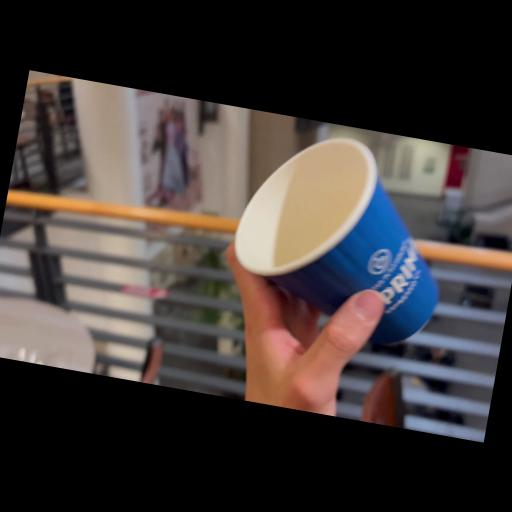lp_paper_cup: (220, 120, 463, 353)
